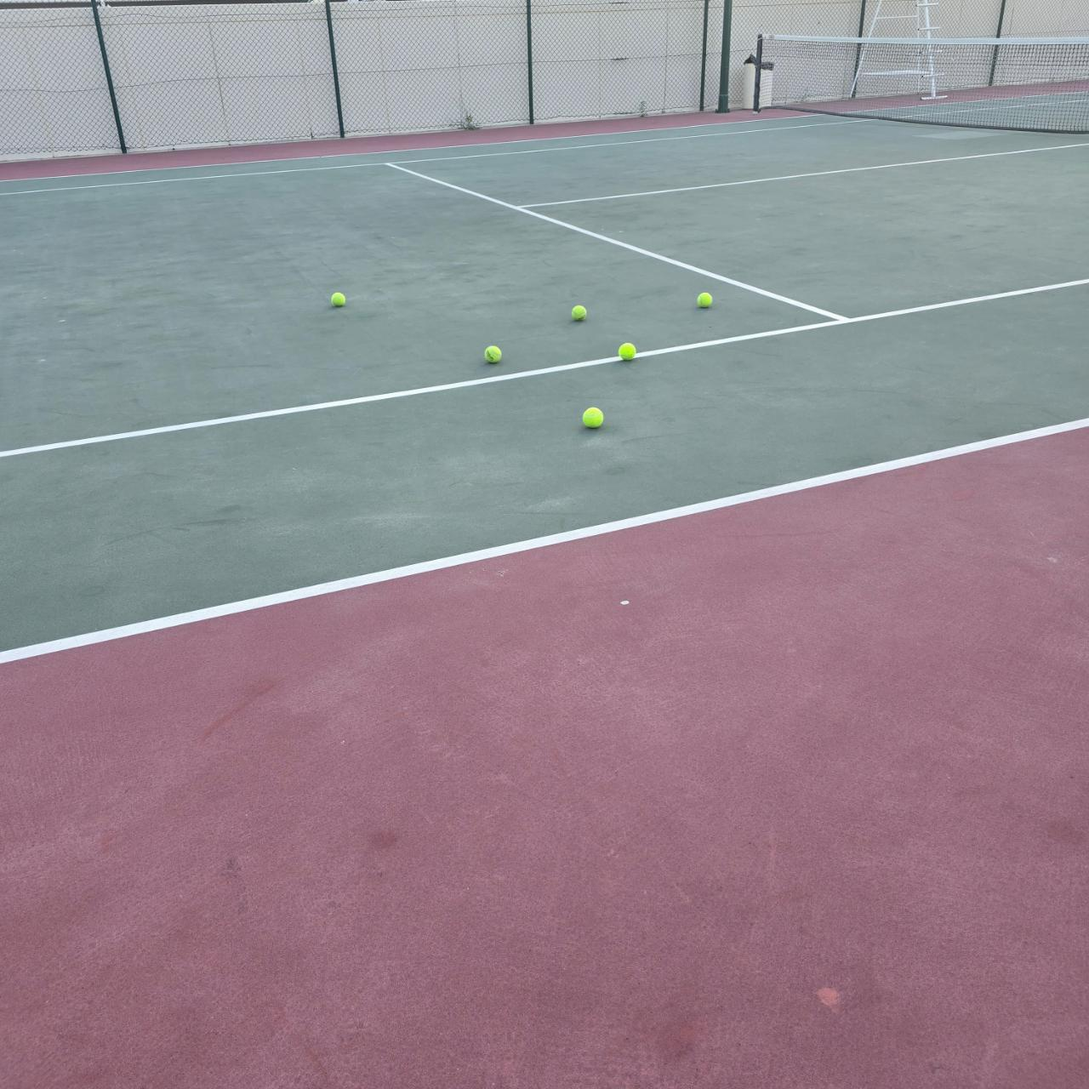tennis-ball: (580, 404, 604, 428), (617, 340, 636, 360), (483, 343, 501, 363), (695, 290, 713, 308), (569, 303, 586, 321), (328, 289, 346, 306)
